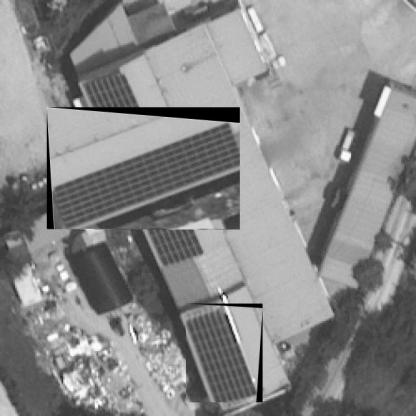solar-pv-panel: (51, 120, 240, 229), (186, 306, 259, 402)
